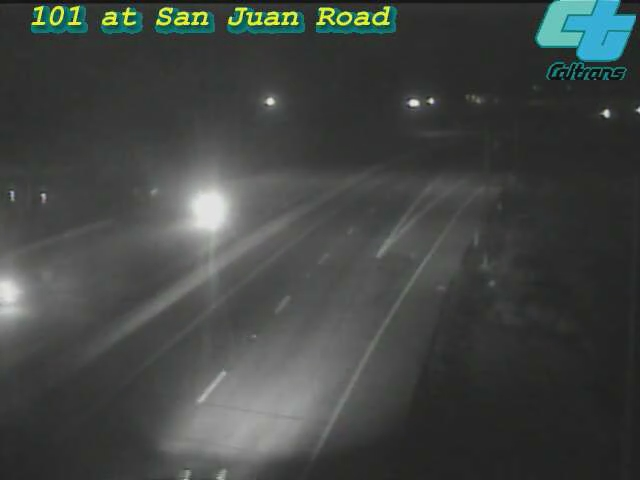vehicle: (142, 417, 252, 480), (171, 169, 251, 249), (1, 253, 45, 333), (581, 88, 631, 138)
